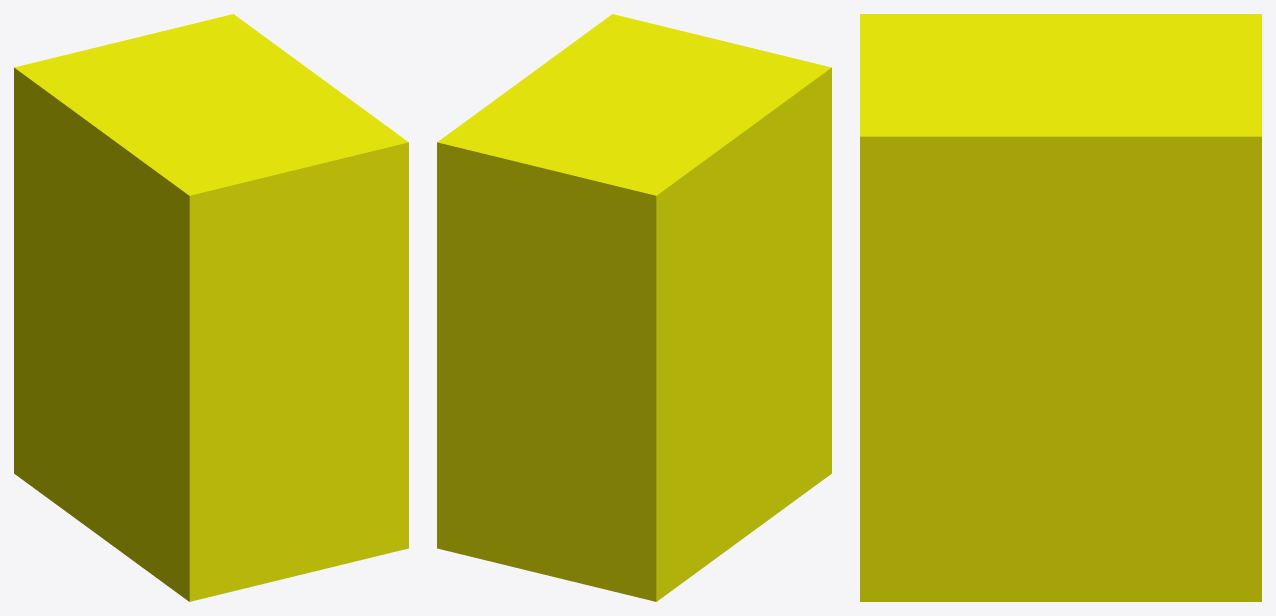
Rendered from sm_hana_swgr_a_1300x1800x2300_2d.glb.
3 views of the same model, side by side, from view 1: azimuth 30°, elevation 25°; view 2: azimuth 150°, elevation 25°; view 3: azimuth 270°, elevation 25° (orthographic). The views are drawn at different scales.
Parts seen in each view (by area): view 1: sm_hana_swgr_a_1300x1800x2300_2d; view 2: sm_hana_swgr_a_1300x1800x2300_2d; view 3: sm_hana_swgr_a_1300x1800x2300_2d.
Boxes of the visible parts, x1,y1,x2,y2 form: sm_hana_swgr_a_1300x1800x2300_2d: [14, 14, 408, 601]; sm_hana_swgr_a_1300x1800x2300_2d: [437, 14, 831, 601]; sm_hana_swgr_a_1300x1800x2300_2d: [860, 14, 1261, 601].
Bounding box in the file's own units: 1.3 × 2.3 × 1.8.
1 material, 1 textured.
